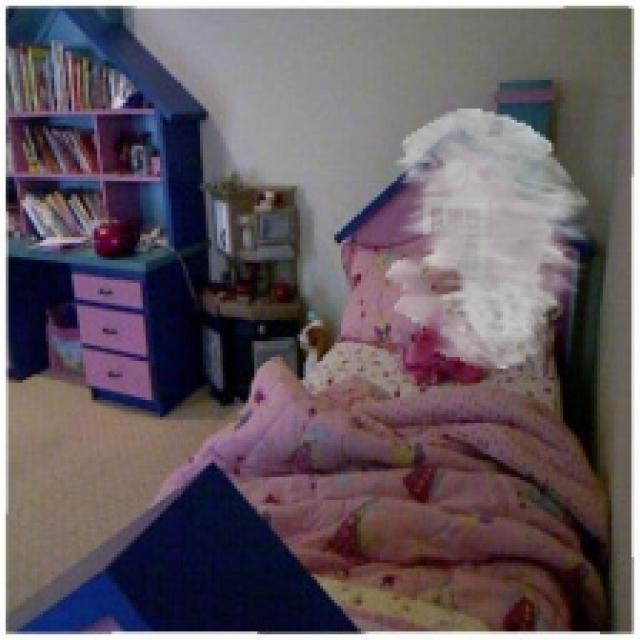Smoke: (386, 109, 592, 368)
